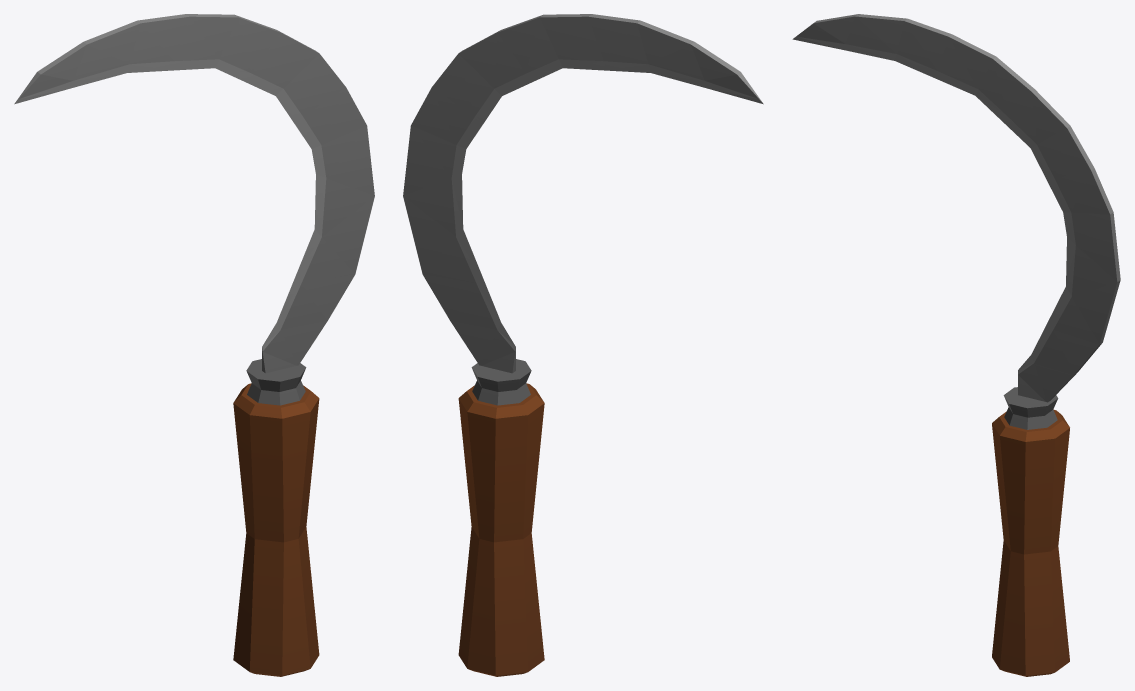
The model's file is Tool_Hand_Scythe_01.obj.
3 renders of one model, left to right at view 1: azimuth 30°, elevation 25°; view 2: azimuth 150°, elevation 25°; view 3: azimuth 330°, elevation 25°, orthographic. The views are drawn at different scales.
Parts seen in each view (by area): view 1: Tool_Hand_Scythe_01; view 2: Tool_Hand_Scythe_01; view 3: Tool_Hand_Scythe_01.
Boxes of the visible parts, bbox=[...] form: Tool_Hand_Scythe_01: bbox=[14, 14, 374, 676]; Tool_Hand_Scythe_01: bbox=[403, 14, 763, 676]; Tool_Hand_Scythe_01: bbox=[792, 14, 1120, 676].
Size of the model in its own units: 0.2845 by 0.5102 by 0.0552.
Materials: 1 (1 with a texture image).
